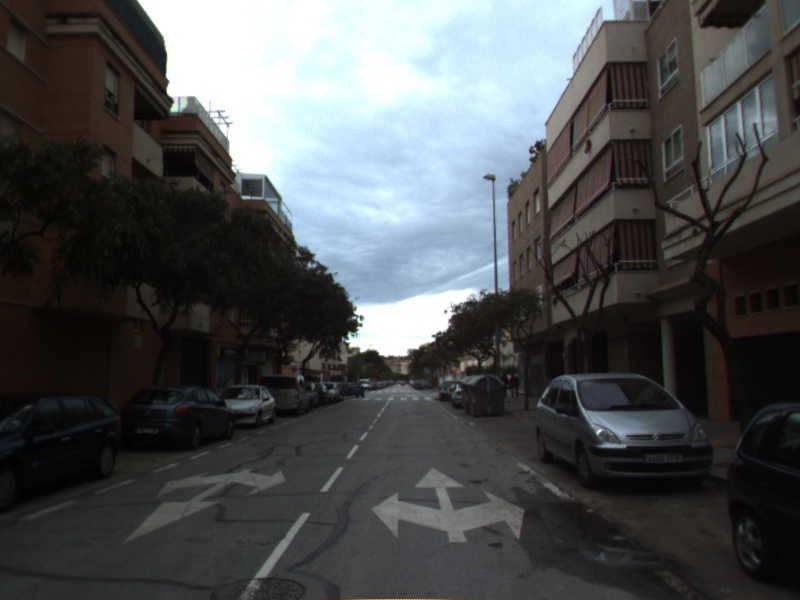STRAIGHT_LEFT_RIGHT: (369, 465, 527, 545)
